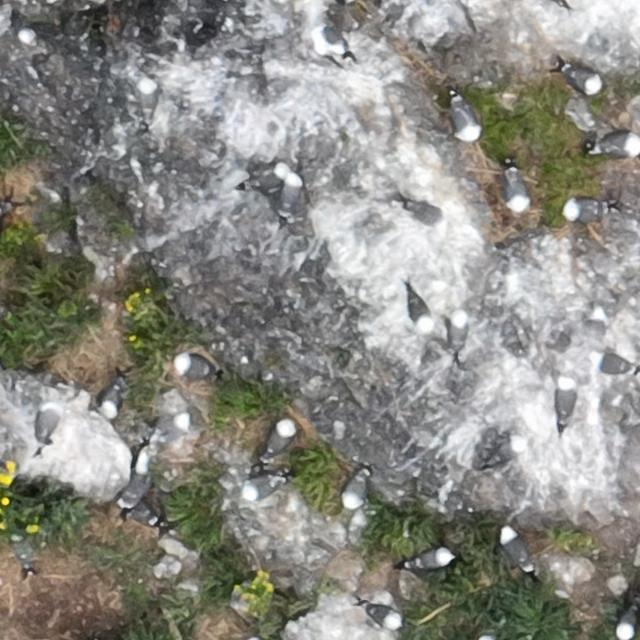umineko: (121, 448, 151, 511), (483, 432, 529, 467), (237, 165, 293, 192), (501, 528, 532, 570), (155, 414, 195, 442), (454, 106, 481, 142), (598, 132, 640, 154), (404, 202, 445, 224), (365, 605, 401, 629), (410, 548, 451, 569), (282, 172, 302, 215), (267, 422, 292, 456), (593, 355, 633, 376), (555, 379, 574, 423), (408, 293, 430, 329), (566, 69, 600, 92), (177, 357, 214, 378), (507, 174, 528, 211), (344, 473, 366, 507), (246, 477, 280, 498), (139, 79, 156, 121), (567, 200, 601, 220), (617, 606, 637, 638), (38, 407, 56, 441), (448, 314, 464, 352), (101, 385, 119, 416)
